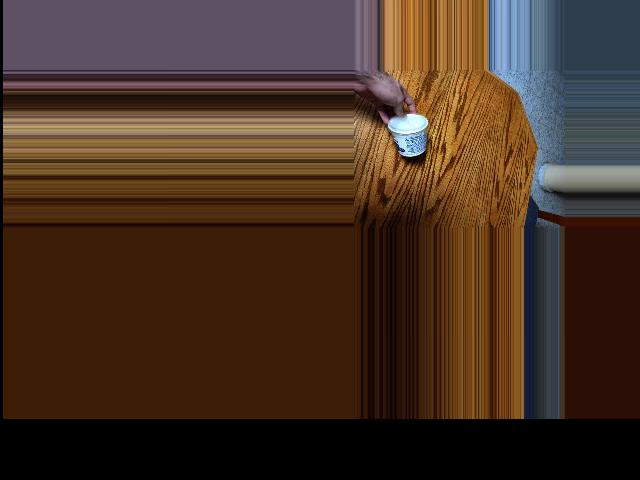cotage: (393, 117, 436, 161)
